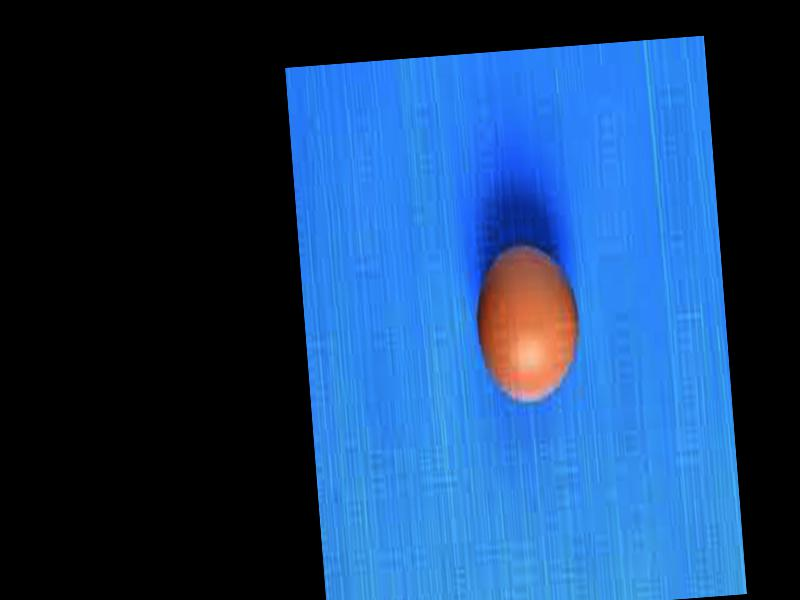Eggs: (472, 235, 583, 408)
